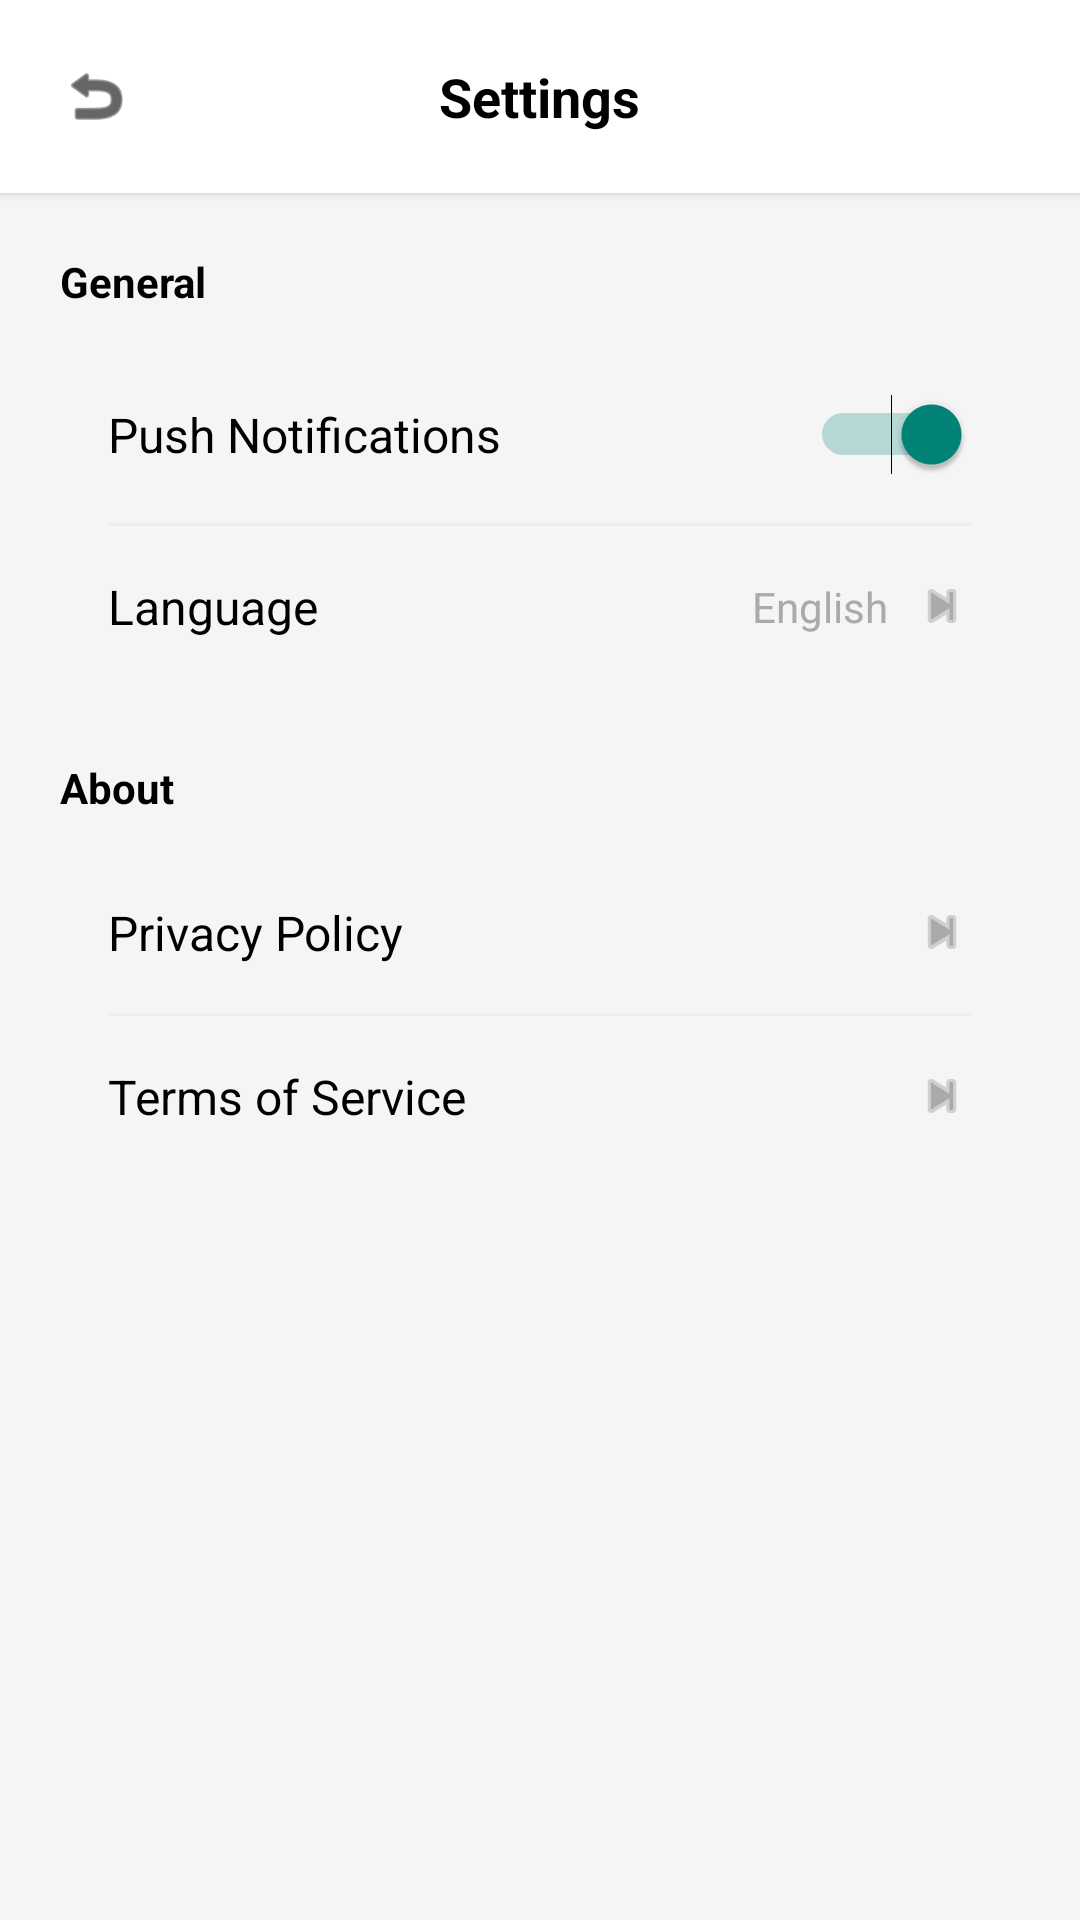

Icon bounding boxes for this 1080px×1920px phone screenshot, format (x1, y1, x2, y2):
next: (928, 589, 956, 623), (928, 915, 956, 949), (928, 1079, 956, 1113)
revert: (71, 73, 123, 120)
